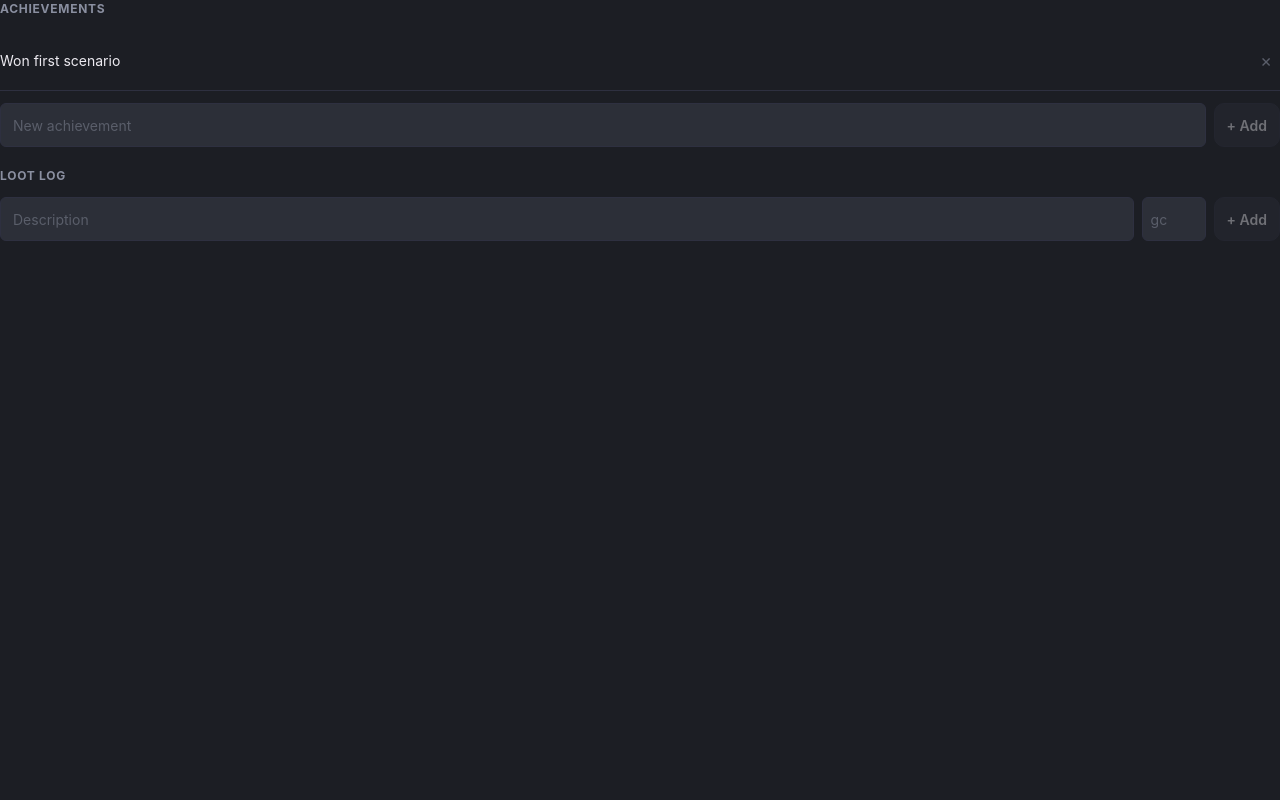
Test: PostGameRecordsPanel › deleting an achievement shows the confirmation dialog
Click the button named "delete achievement: won first scenario".
click(1266, 60)  # box [1252,38,1279,82]
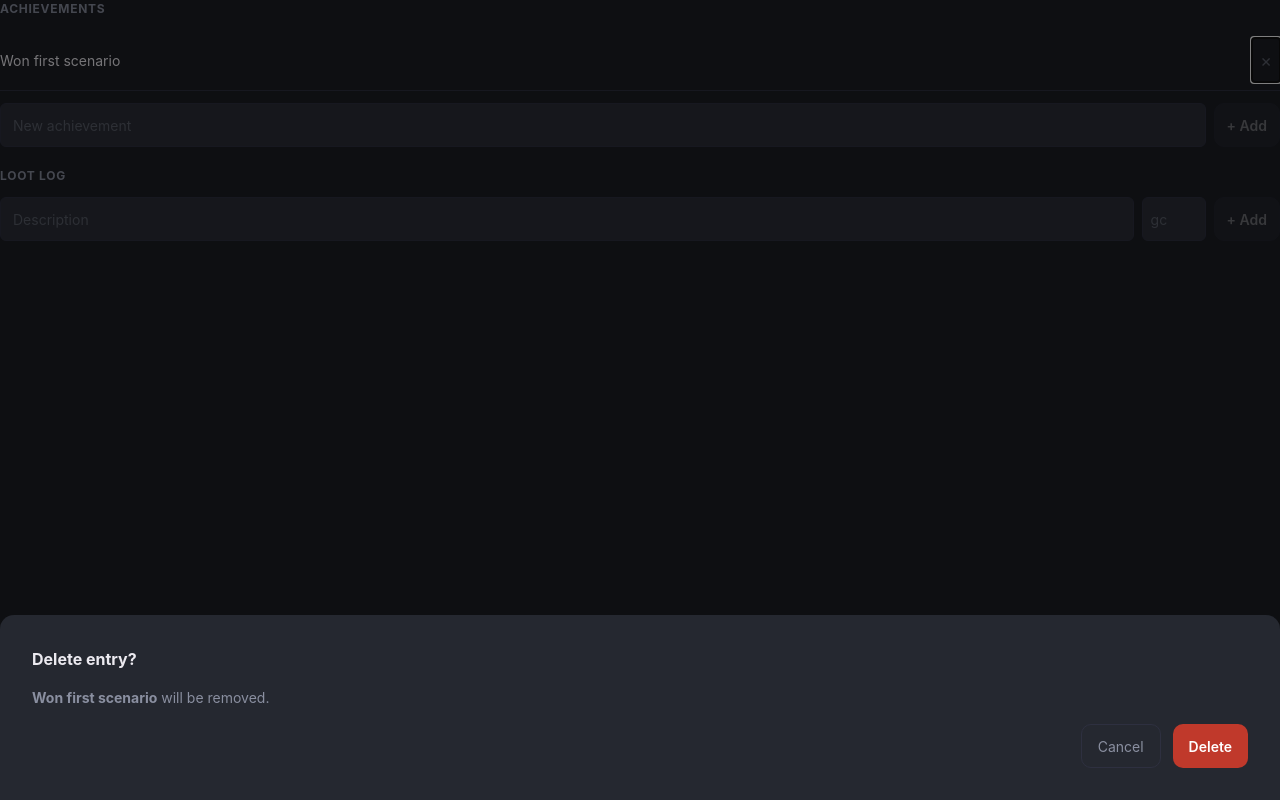
Check: the dialog is shown
Check: the heading "Delete entry?" is shown, box [32,649,137,669]
